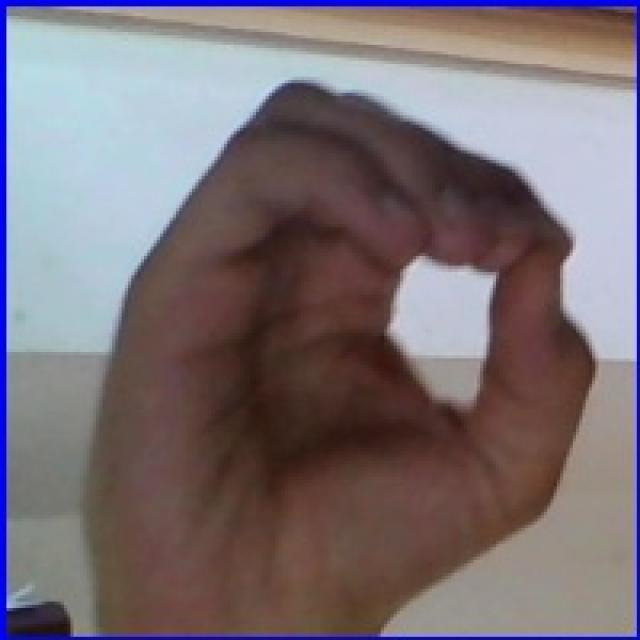Letra-O: (52, 60, 611, 640)
